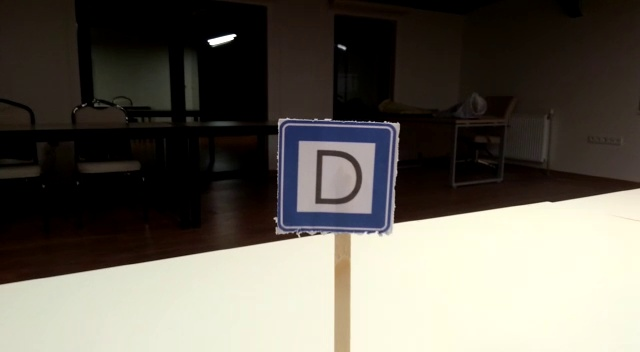durak: (276, 122, 394, 233)
